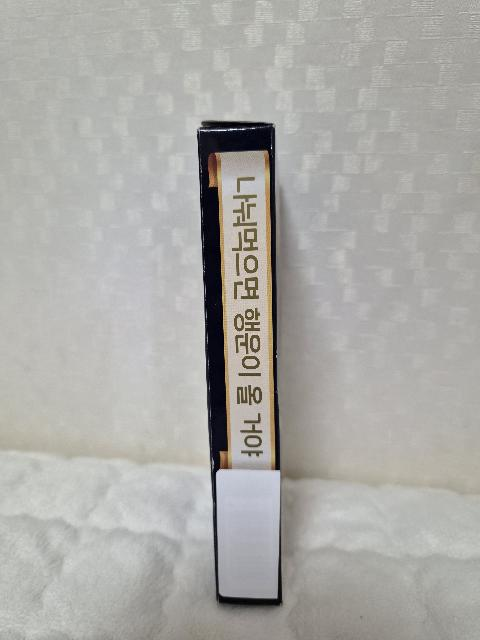pepero: (197, 120, 283, 607)
